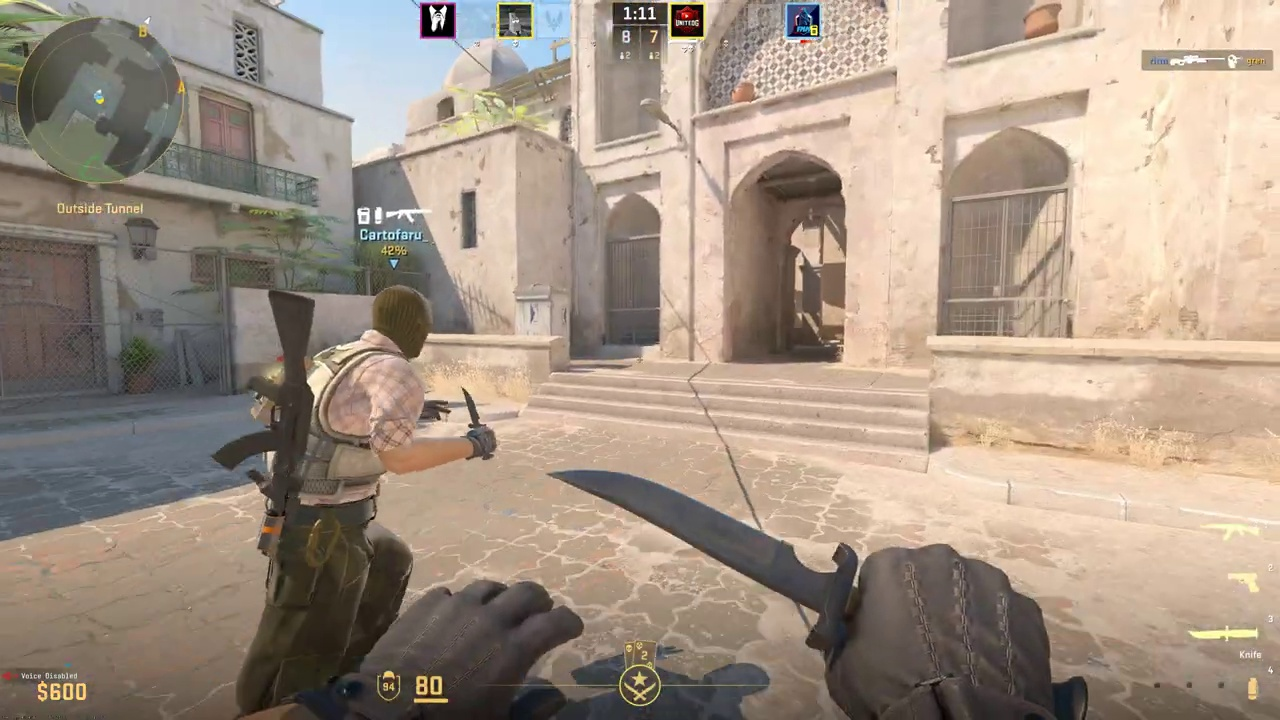Terrorist: (245, 285, 431, 711)
